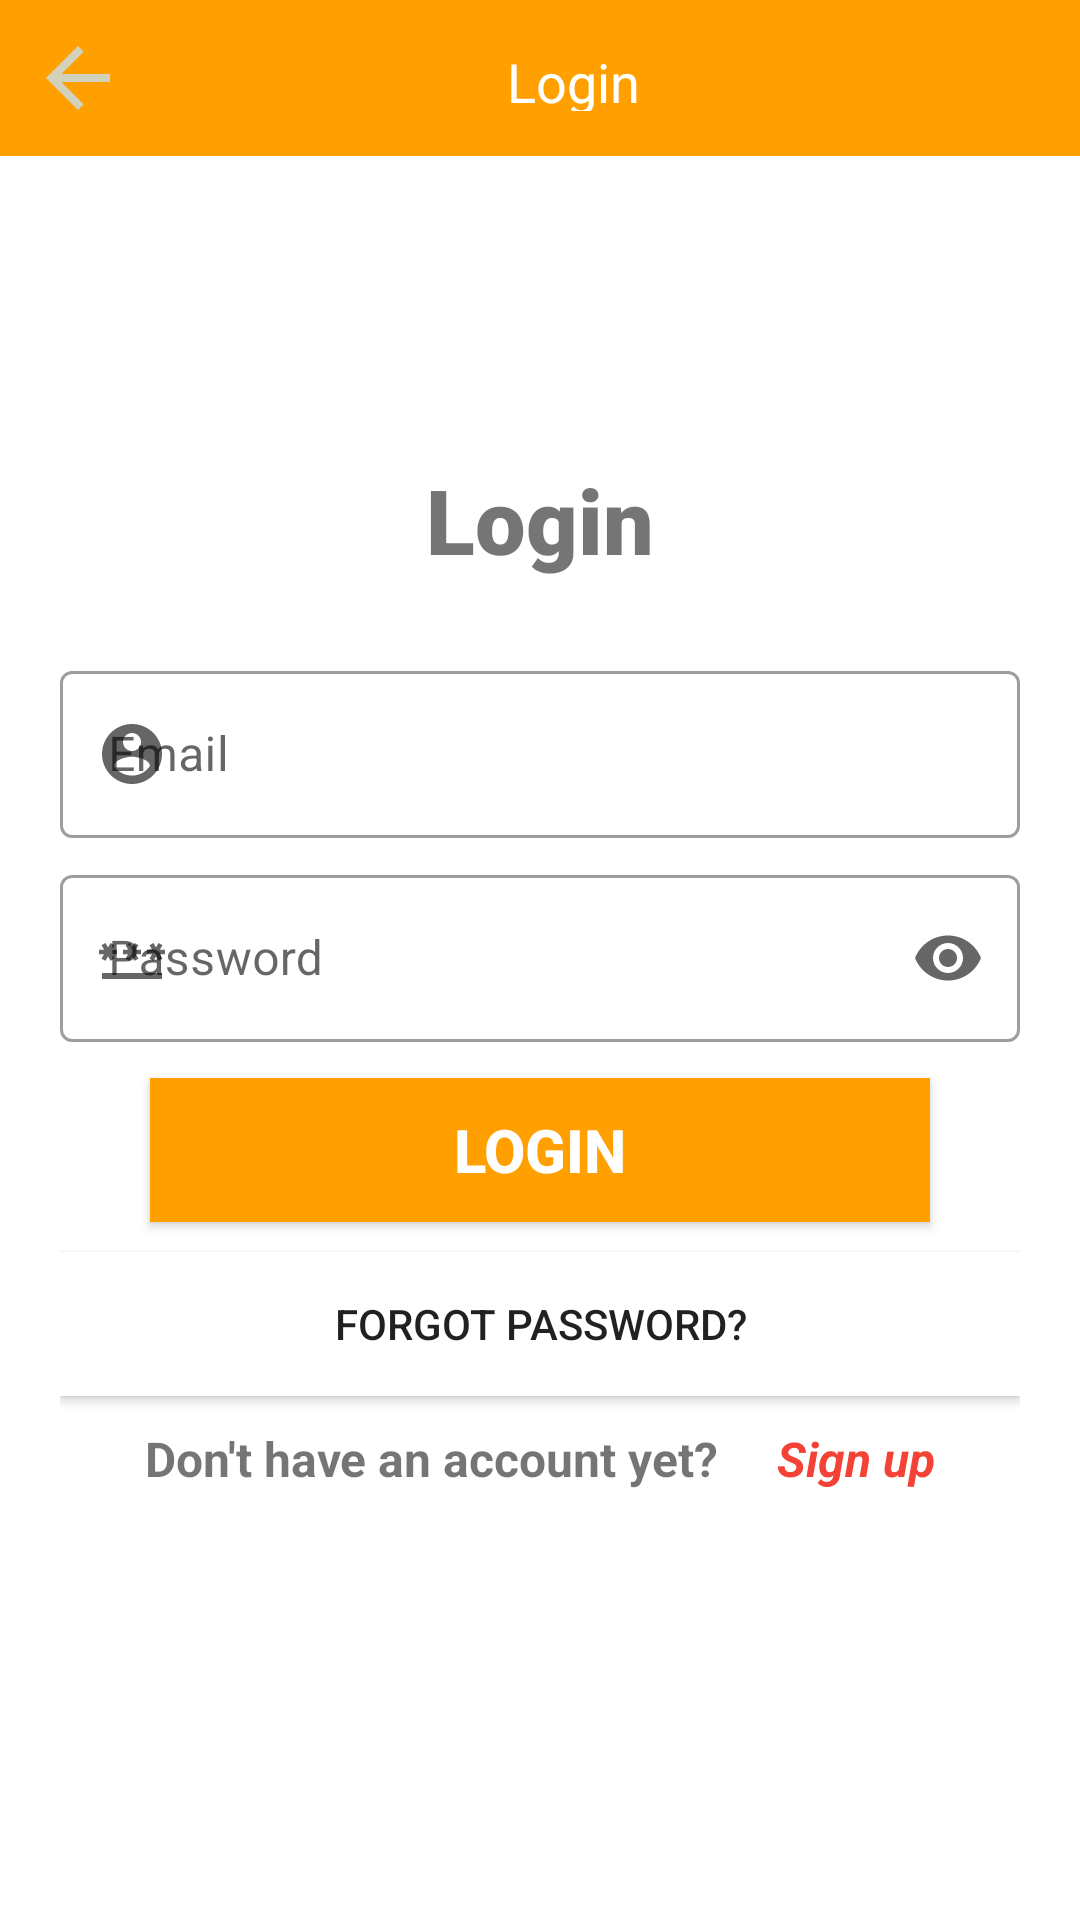

Where to tap for icons on this 1080×1920 app screen, as (x=x, y=y):
arrow back: (x=78, y=78)
